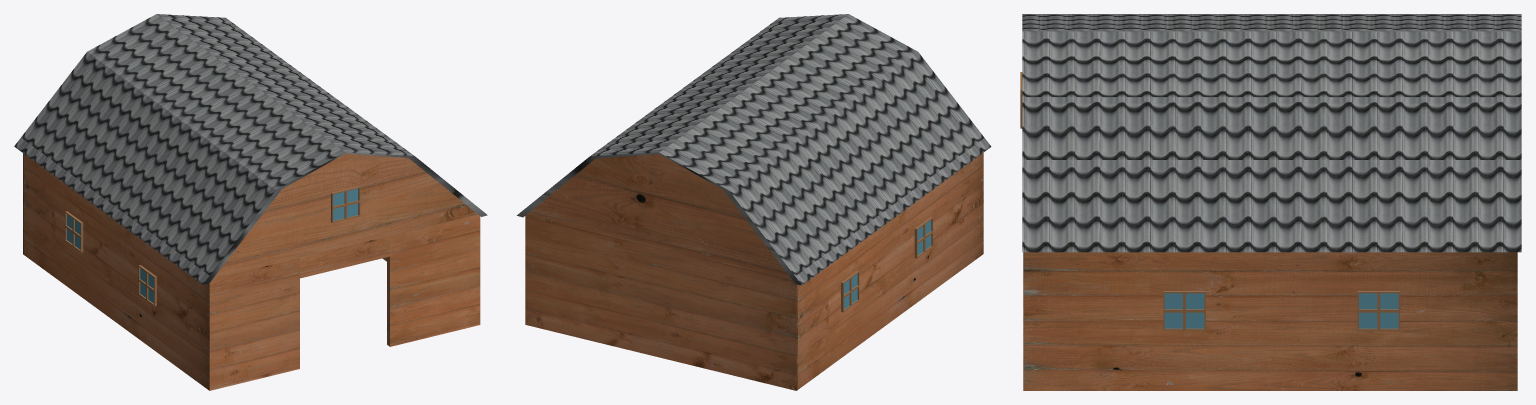
Rendered from shed_1.fbx.
3 views of the same model, side by side, from view 1: azimuth 30°, elevation 25°; view 2: azimuth 150°, elevation 25°; view 3: azimuth 270°, elevation 25° (orthographic). The views are drawn at different scales.
Parts seen in each view (by area): view 1: dak, muren, windows, Plane; view 2: dak, muren, windows; view 3: dak, muren, windows.
Boxes of the visible parts, x1,y1,x2,y2 form: dak: [14, 14, 487, 284]; muren: [23, 153, 480, 390]; windows: [65, 211, 156, 306]; Plane: [331, 186, 360, 222]; dak: [517, 14, 991, 285]; muren: [525, 153, 983, 390]; windows: [841, 217, 932, 312]; dak: [1022, 14, 1521, 252]; muren: [1023, 252, 1517, 390]; windows: [1163, 291, 1399, 330].
Size of the model in its own units: 1075 by 742 by 1239.
